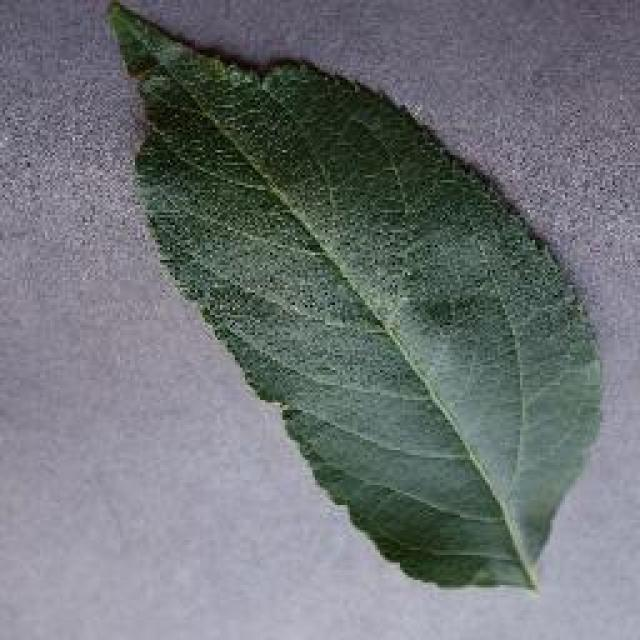apple healthy: (103, 0, 605, 595)
